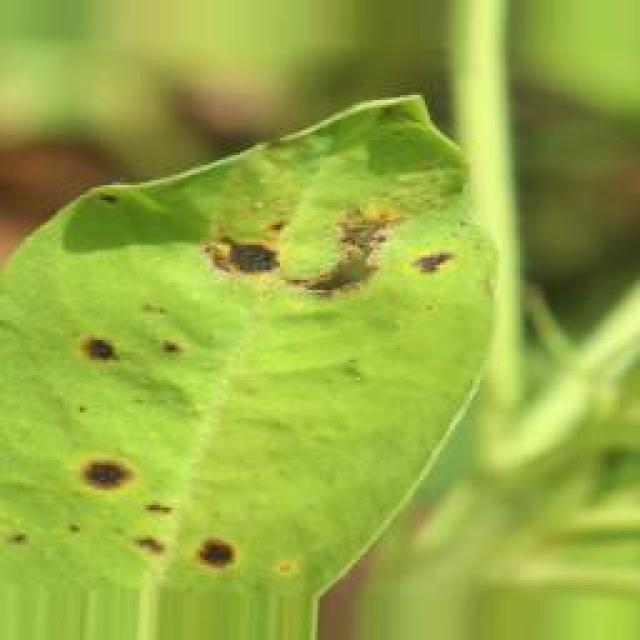Yellowish: (54, 441, 270, 596)
